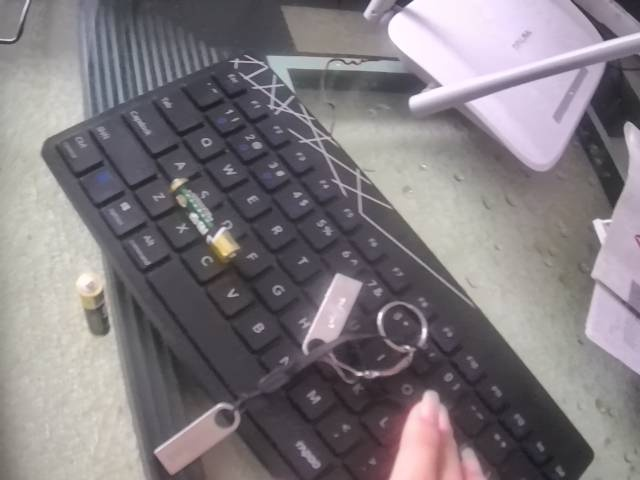U-disk: (300, 265, 434, 382), (152, 389, 249, 477)
battery: (161, 173, 246, 268), (69, 265, 119, 342)
